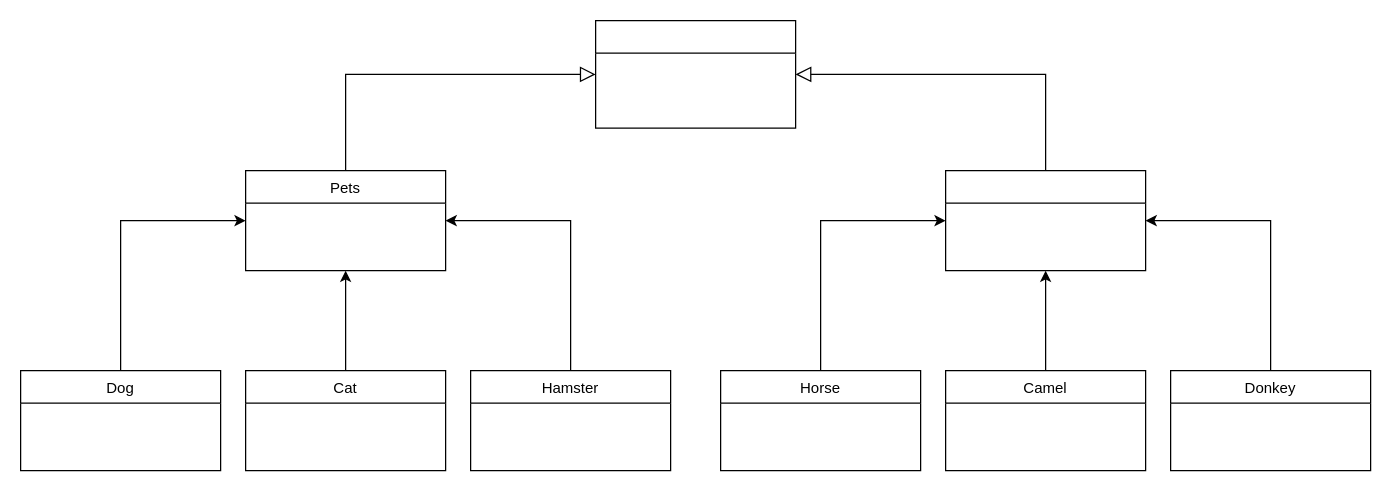
Image size: 1391x491. Some labels were removed from this diagram. The shapes that lost their labels are listed below. From the top down, each one's centre as x and y in pixels, then its label:
the point at 695,73: Animals
the point at 1045,220: Pack_animals
